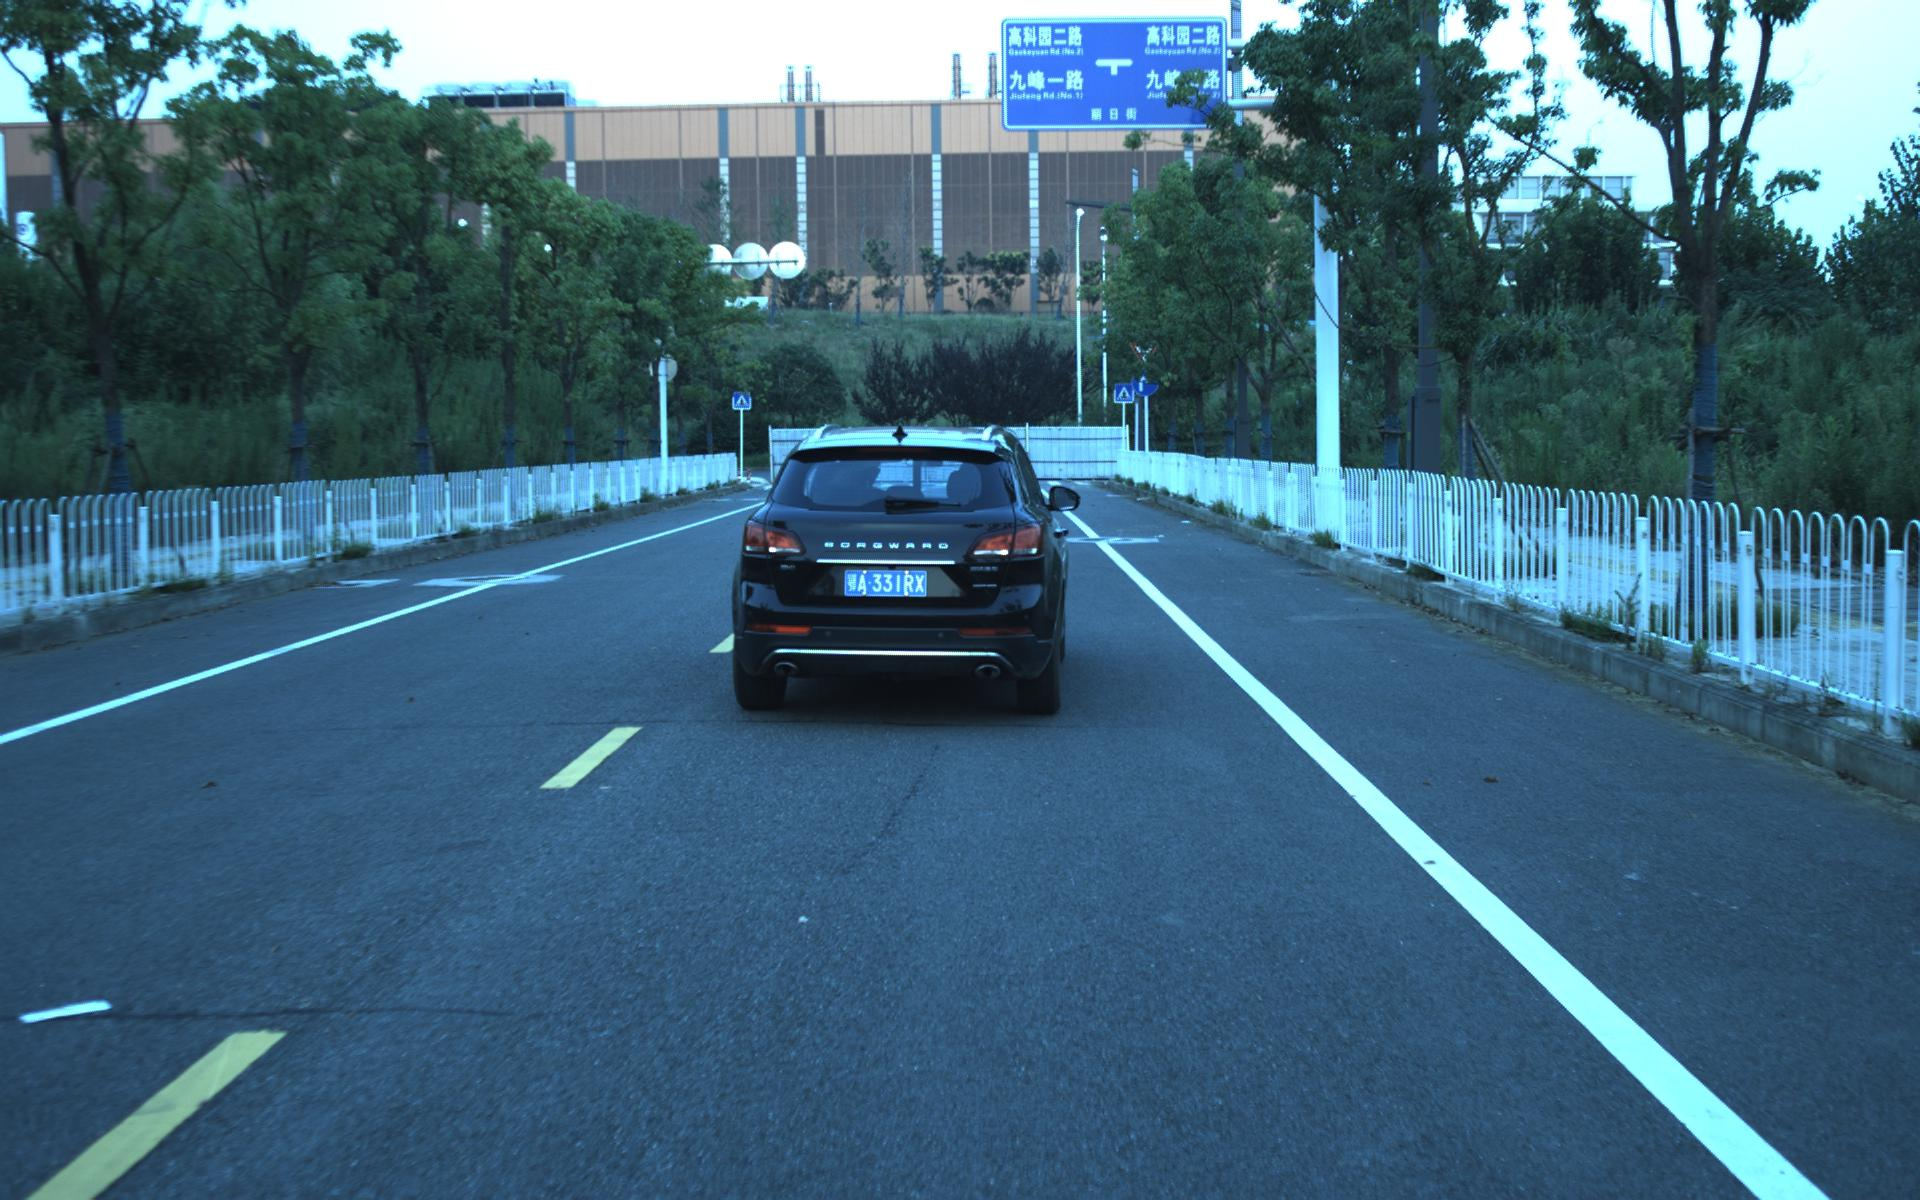Car: (724, 418, 1070, 720)
